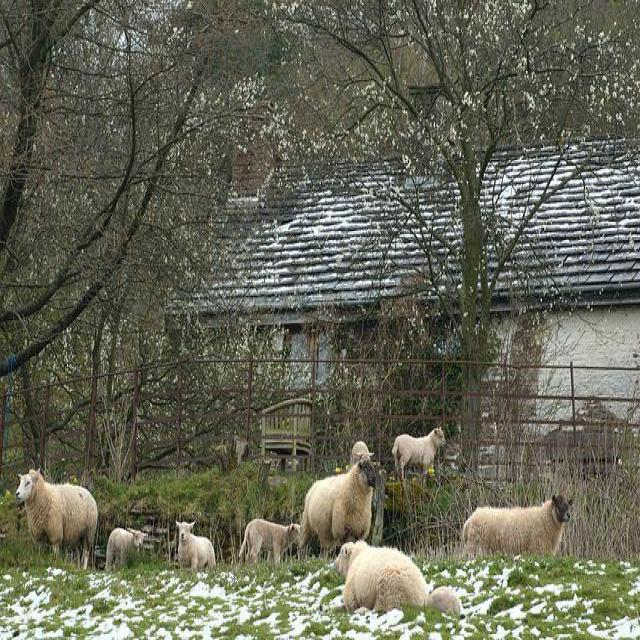Sheep: (298, 453, 378, 560), (16, 468, 98, 569), (462, 494, 574, 562), (333, 540, 431, 613), (391, 420, 449, 490), (238, 519, 301, 569), (177, 519, 218, 574)
